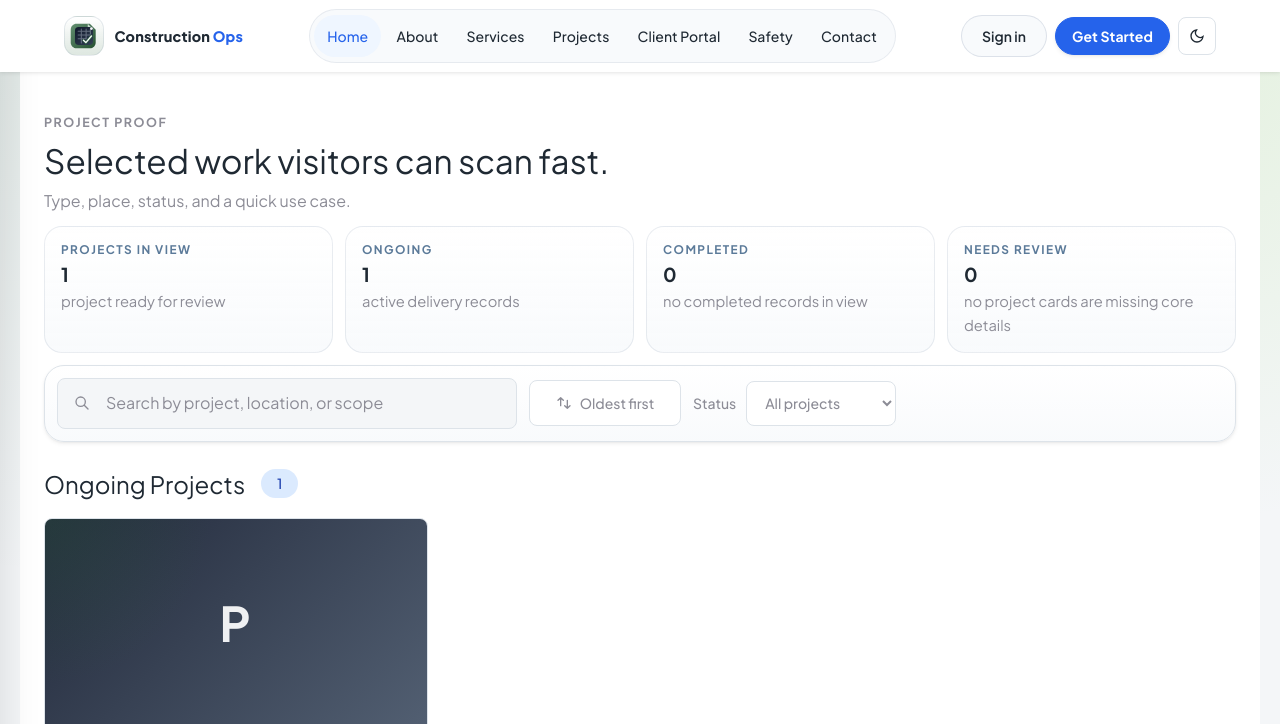
Test case: Projects route states › shows a clear filtered no-results state and allows resetting the view
The image size is (1280, 724).
In the field with placeholder "Search by project, location, or scope": (287, 403) [58,379,516,428], type "residential"
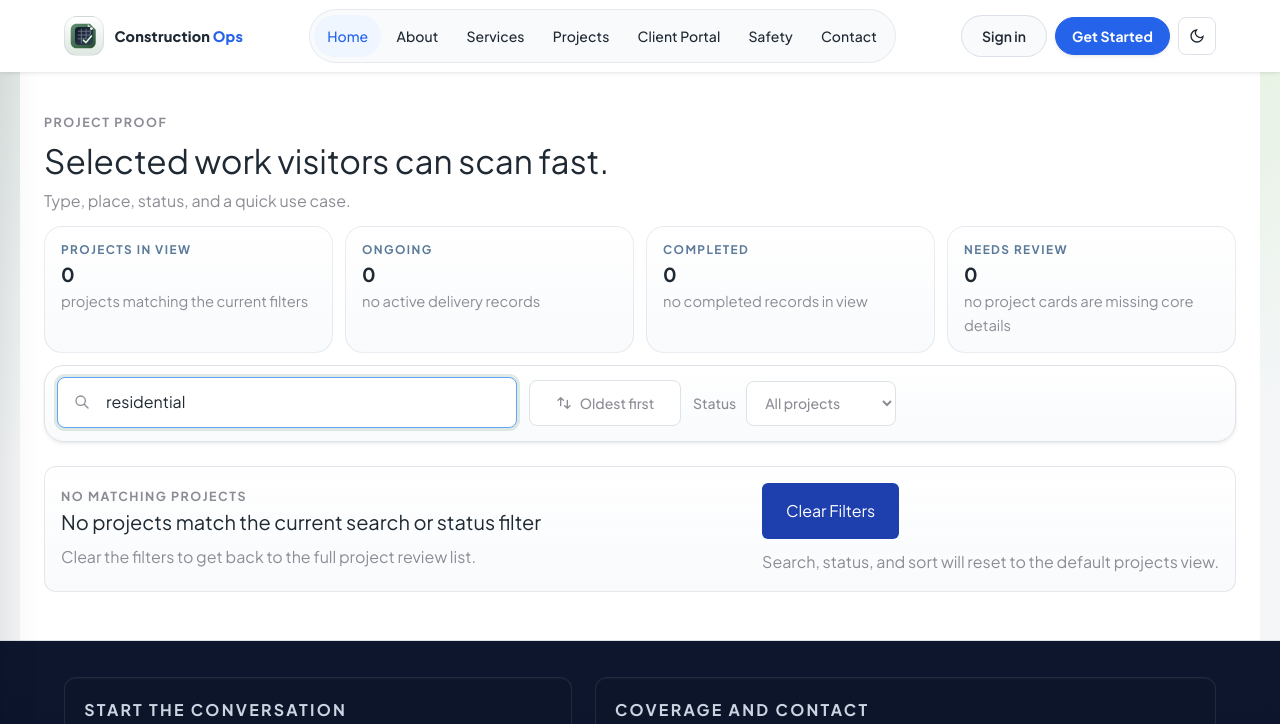
Expected: the heading "No projects match the current search or status filter" is shown, [61,509,541,534]
Expected: the heading "Ongoing Projects" is gone
Click the button "Clear Filters": (831, 510) [762,482,899,538]
(page scrolled)
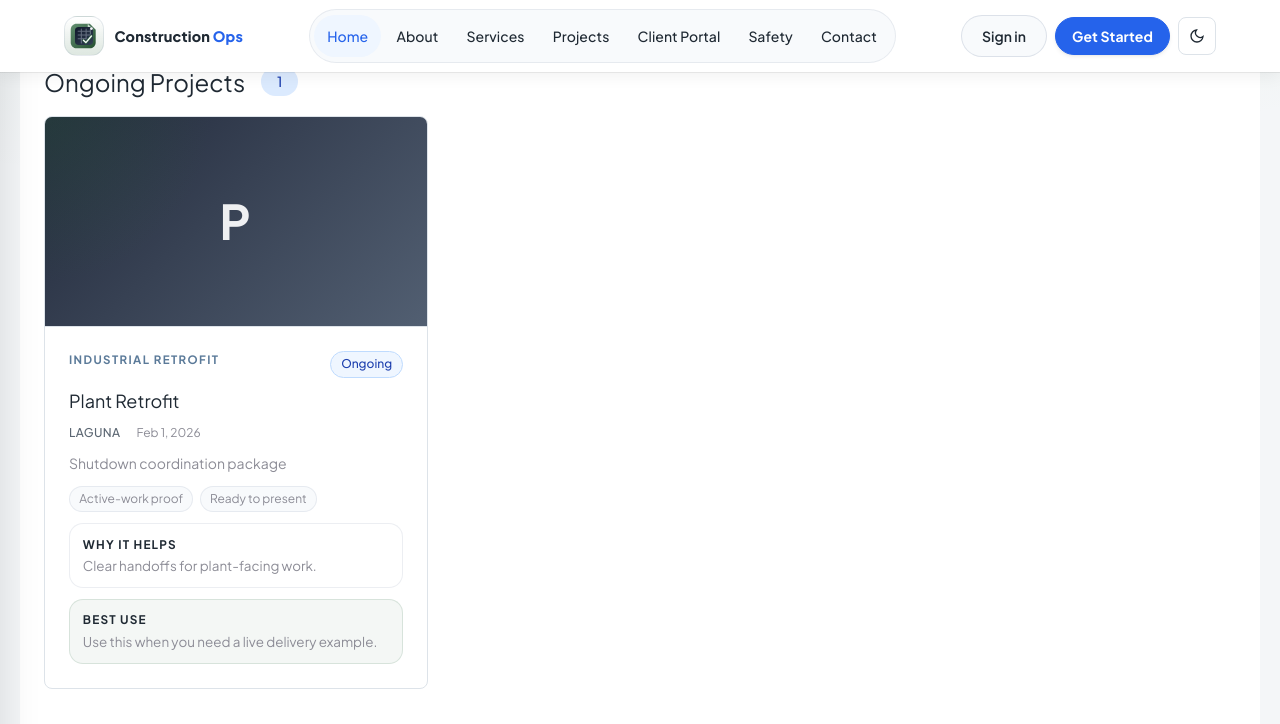
Expected: the heading "Ongoing Projects" is shown, [44,64,245,100]
Expected: the heading "Plant Retrofit" is shown, [69,389,179,412]
